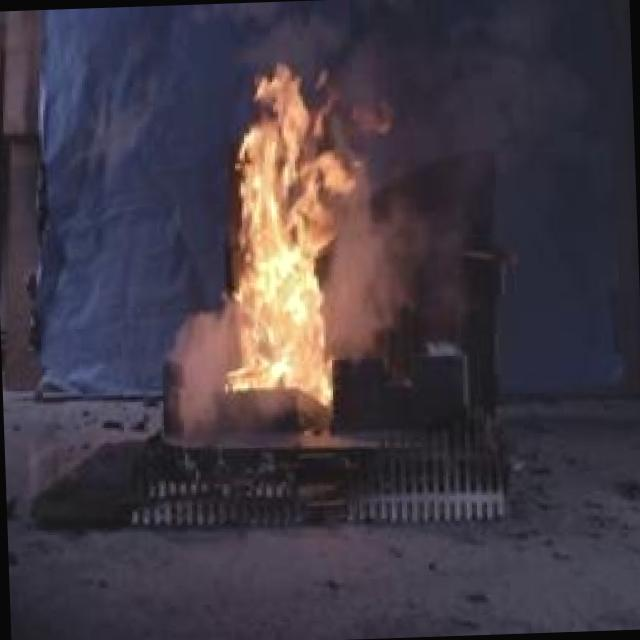fire: (206, 36, 414, 450)
